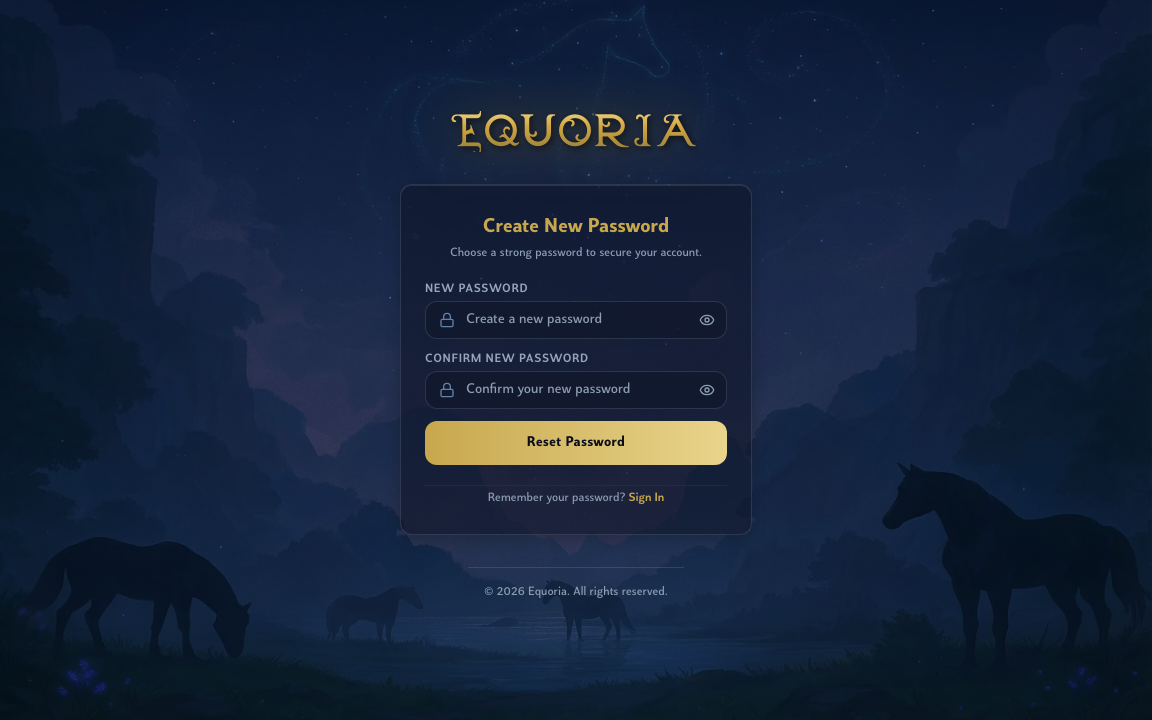
Test case: ResetPasswordPage › Form Validation › shows error for short password
The width and height of the screenshot is (1152, 720).
Type "Short1!" into the password field with placeholder "Create a new password" at [576, 320], box [425,301,727,339]
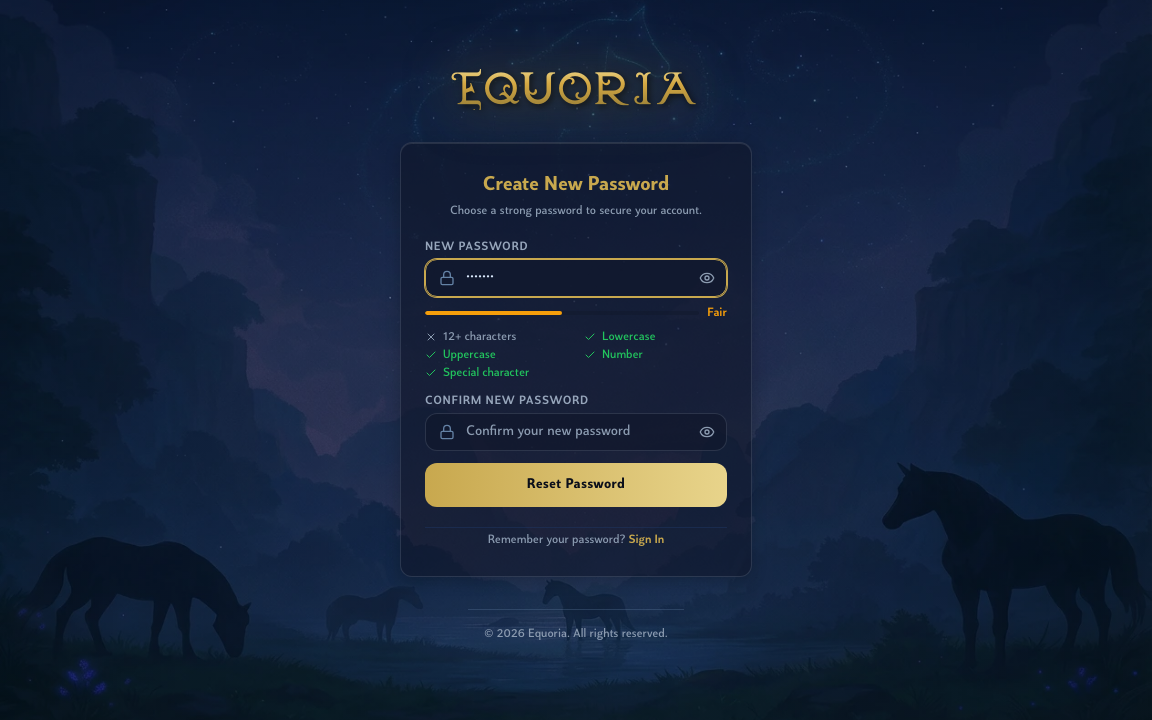
Submit the form named "reset password", box [425,239,727,507]
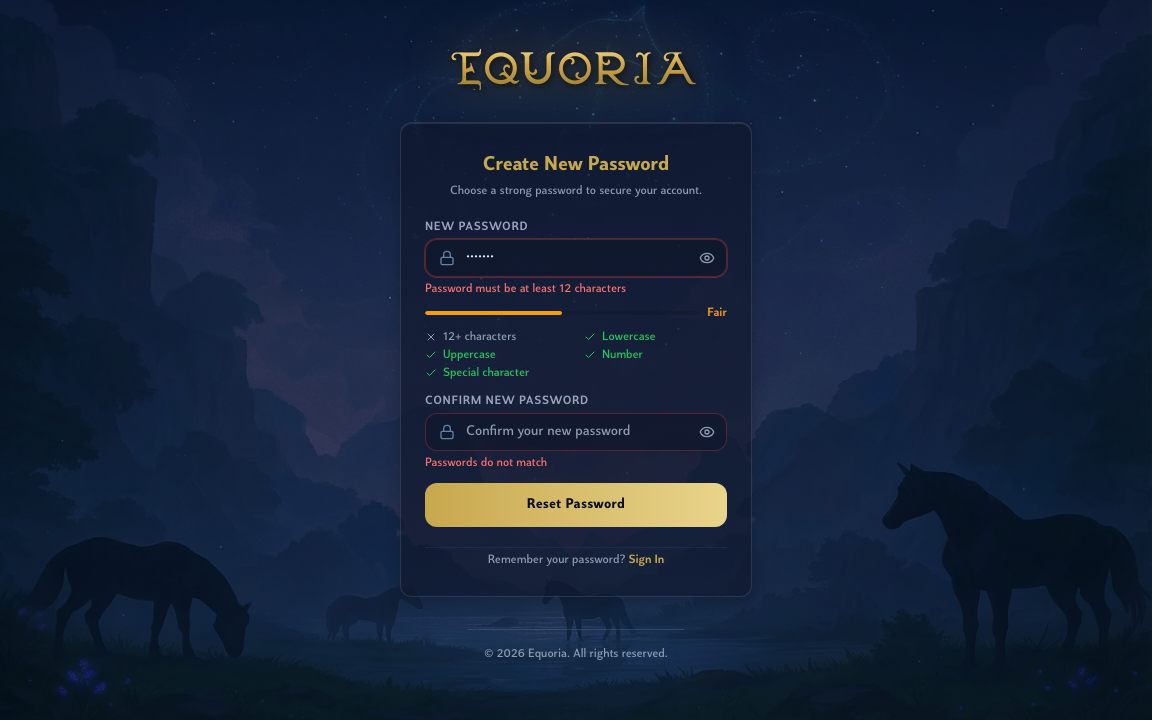
Check: the text "Password must be at least 12 characters" is shown, box [425,283,626,295]
